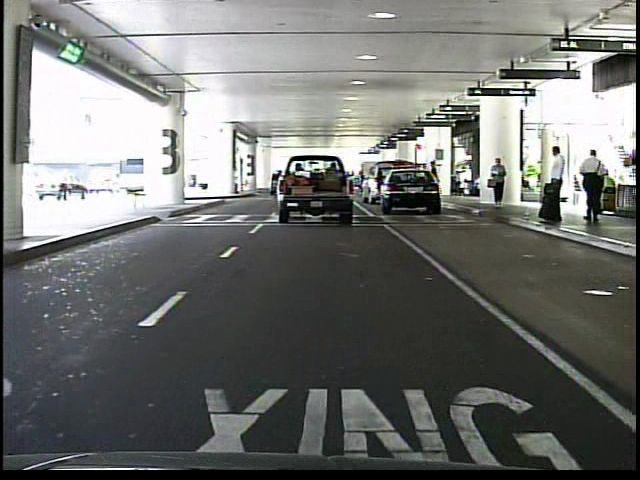person: (577, 145, 610, 227), (539, 143, 570, 227), (487, 153, 512, 213), (429, 158, 443, 201)
